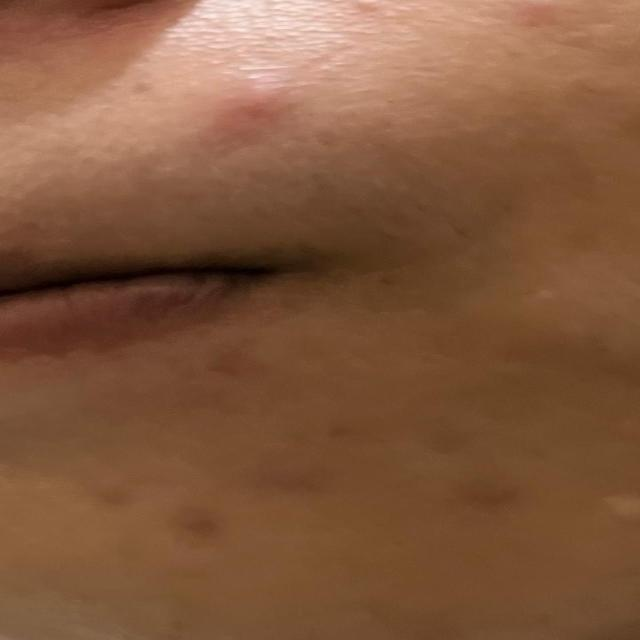papule: (197, 69, 338, 155)
